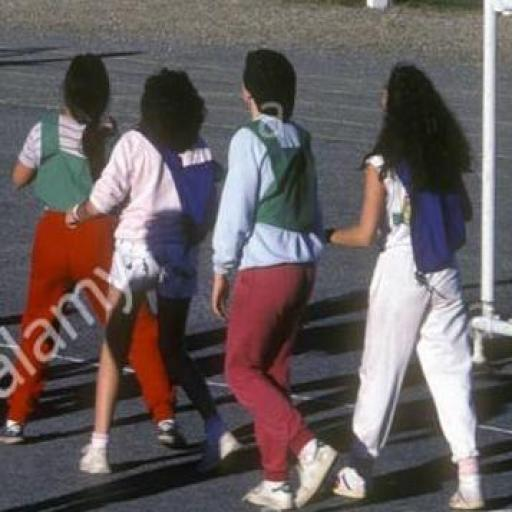person: (68, 69, 239, 471), (329, 64, 483, 508), (213, 49, 337, 510), (0, 55, 116, 443)
